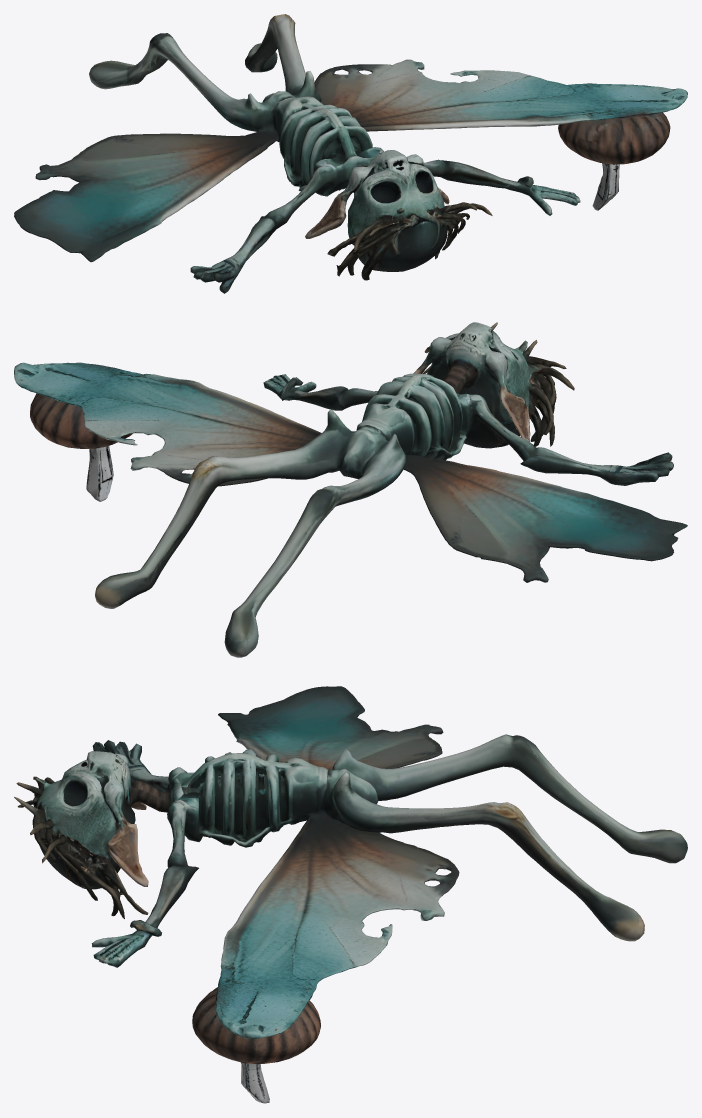
File: skeletal model.fbx
The picture shows the model from 3 angles, top to bottom: view 1: azimuth 30°, elevation 25°; view 2: azimuth 150°, elevation 25°; view 3: azimuth 270°, elevation 25°; orthographic projection. The views are drawn at different scales.
Parts seen in each view (by area): view 1: tripo_node_d018ce9f; view 2: tripo_node_d018ce9f; view 3: tripo_node_d018ce9f.
Boxes of the visible parts, bbox=[...] form: tripo_node_d018ce9f: bbox=[14, 14, 687, 293]; tripo_node_d018ce9f: bbox=[14, 322, 687, 657]; tripo_node_d018ce9f: bbox=[14, 686, 687, 1103].
Size of the model in its own units: 99.96 by 81.51 by 26.4.
1 material, 1 textured.
